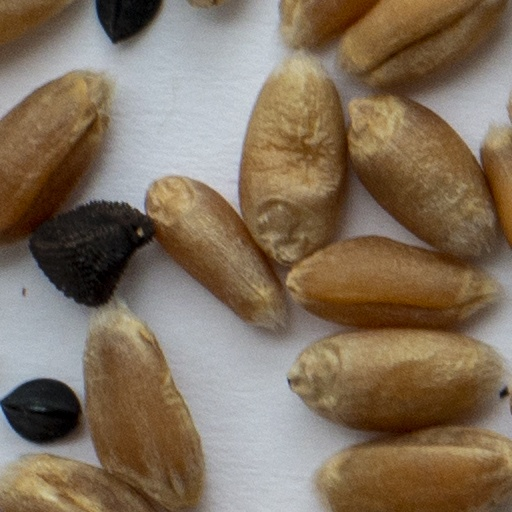Fallopia-Convolvulus-poly: (0, 374, 82, 448), (93, 0, 162, 47)
